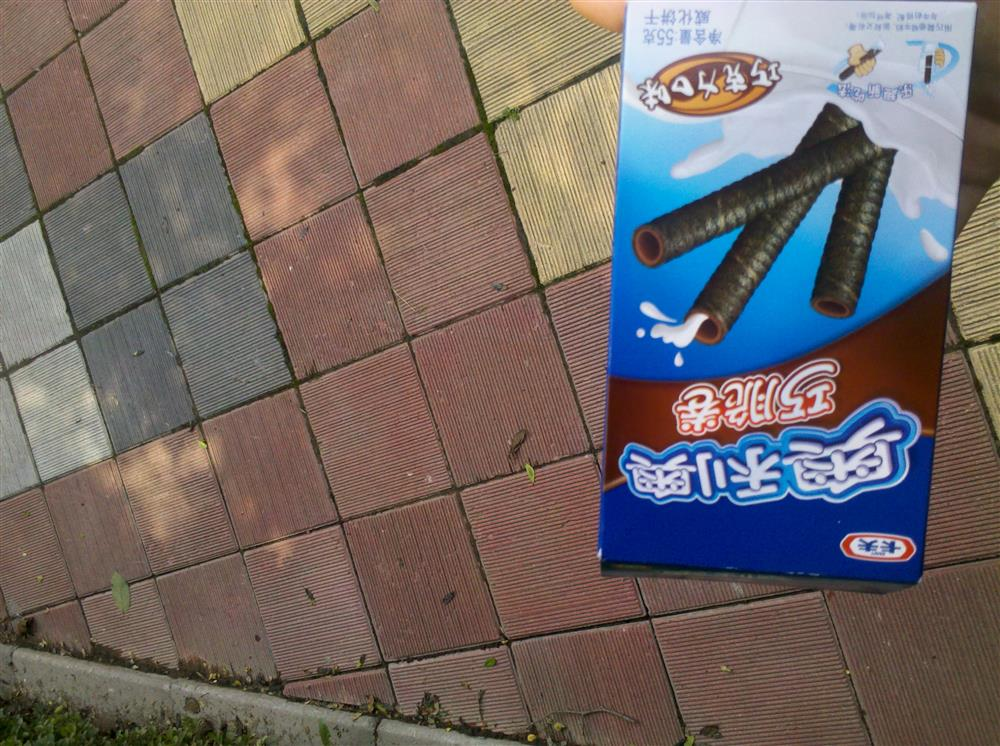Aodiao_Chocolate_Roll: (598, 1, 977, 586)
